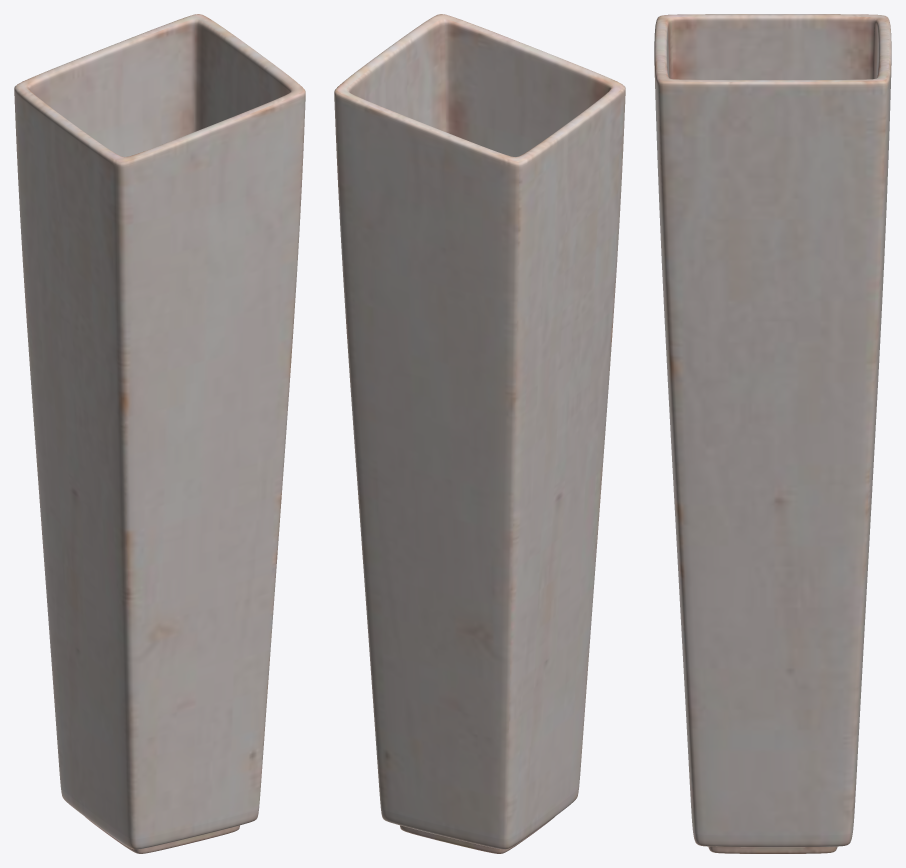
Rendered from ph_ceramic_vase_03.glb.
3 renders of one model, left to right at view 1: azimuth 30°, elevation 25°; view 2: azimuth 150°, elevation 25°; view 3: azimuth 270°, elevation 25°, orthographic. The views are drawn at different scales.
Parts seen in each view (by area): view 1: ceramic_vase_03; view 2: ceramic_vase_03; view 3: ceramic_vase_03.
Part boxes in pixels (x1,y1,x2,y2): ceramic_vase_03: (14, 14, 305, 853); ceramic_vase_03: (334, 14, 625, 853); ceramic_vase_03: (654, 14, 891, 853).
Bounding box in the file's own units: 0.1122 × 0.4144 × 0.1122.
Materials: 1 (1 with a texture image).
